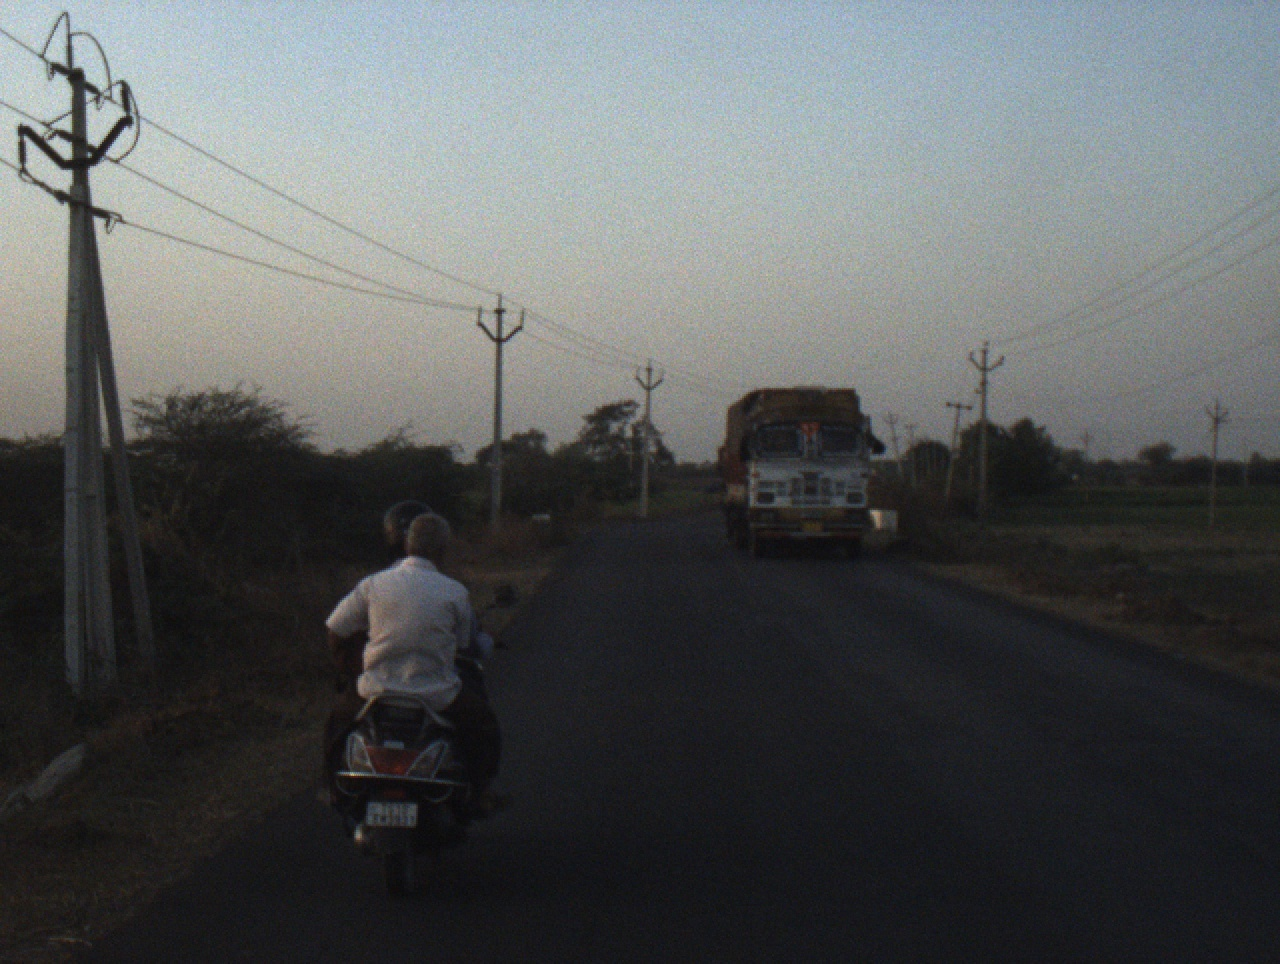motorcycle: (314, 582, 534, 884)
rider: (308, 515, 491, 836), (369, 487, 430, 580)
truck: (698, 388, 889, 565)
